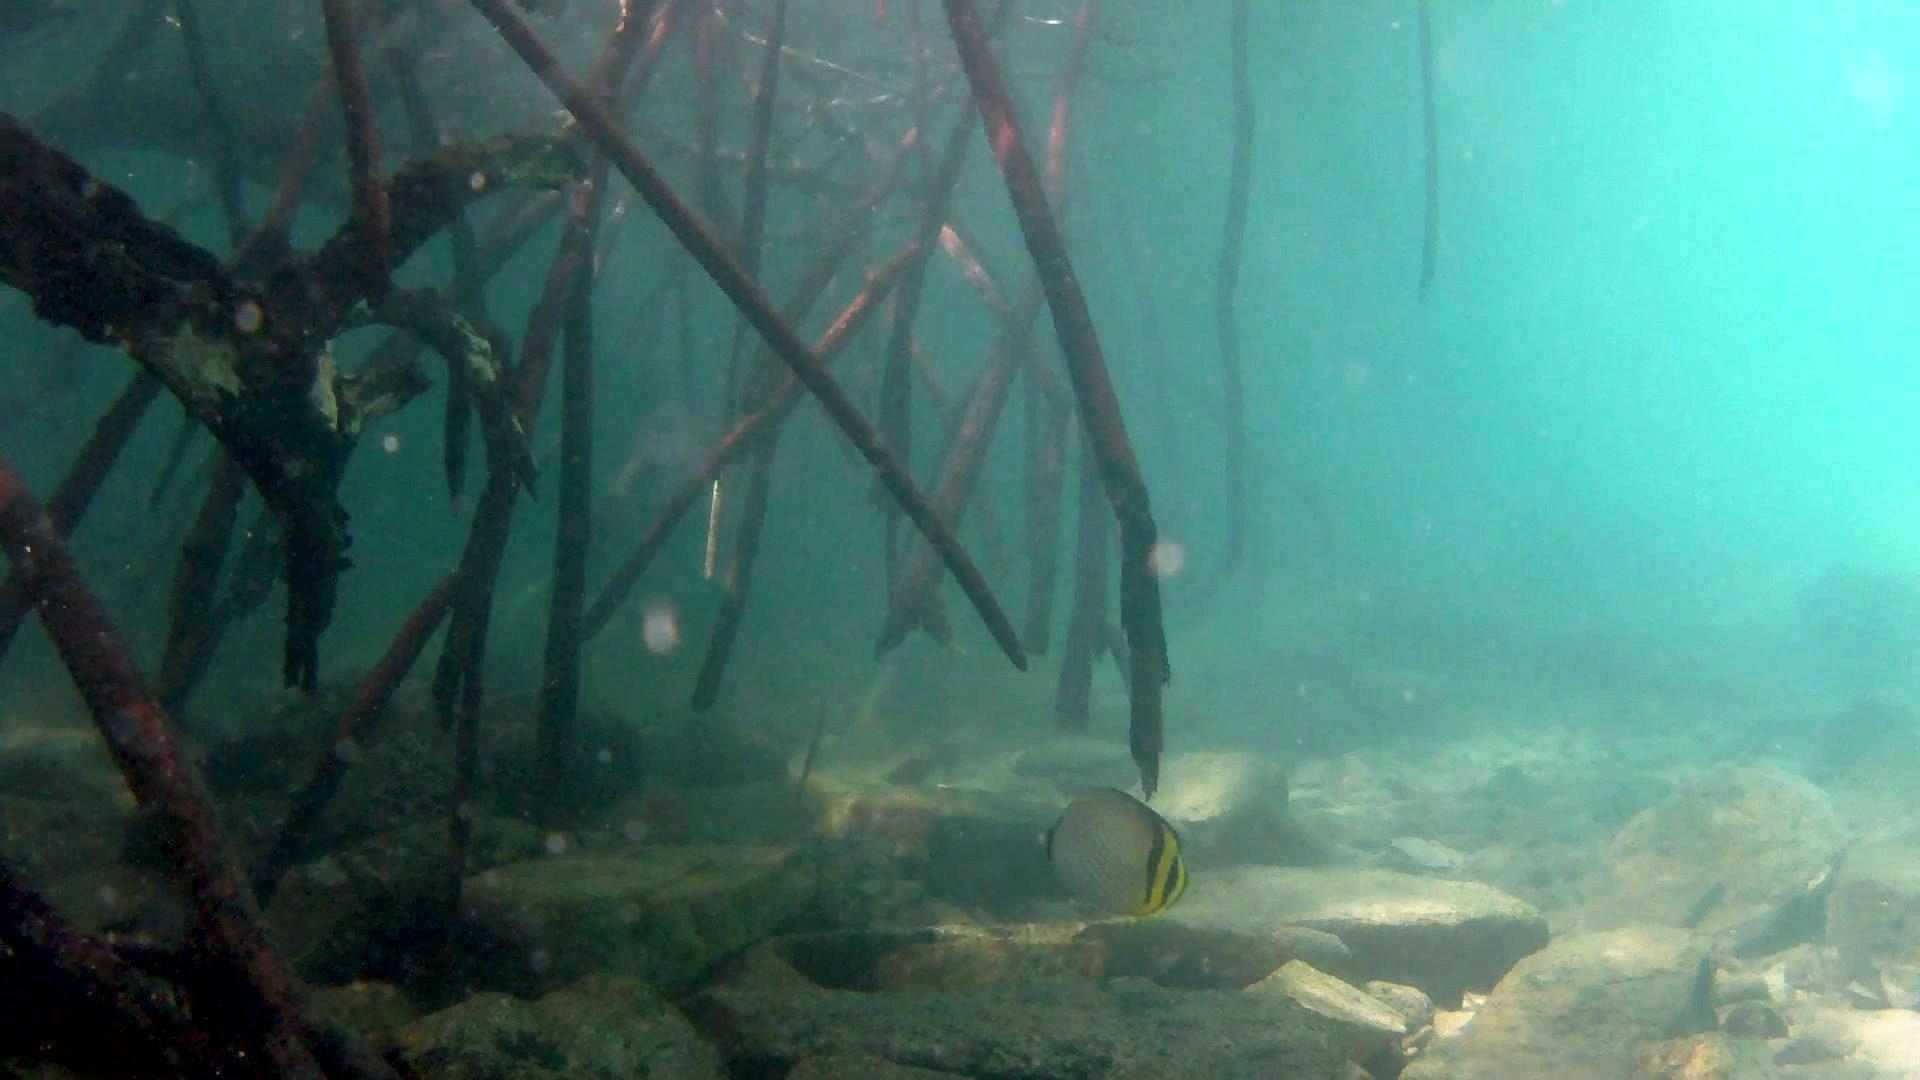chaetodon vagabundus: (1035, 785, 1191, 920)
